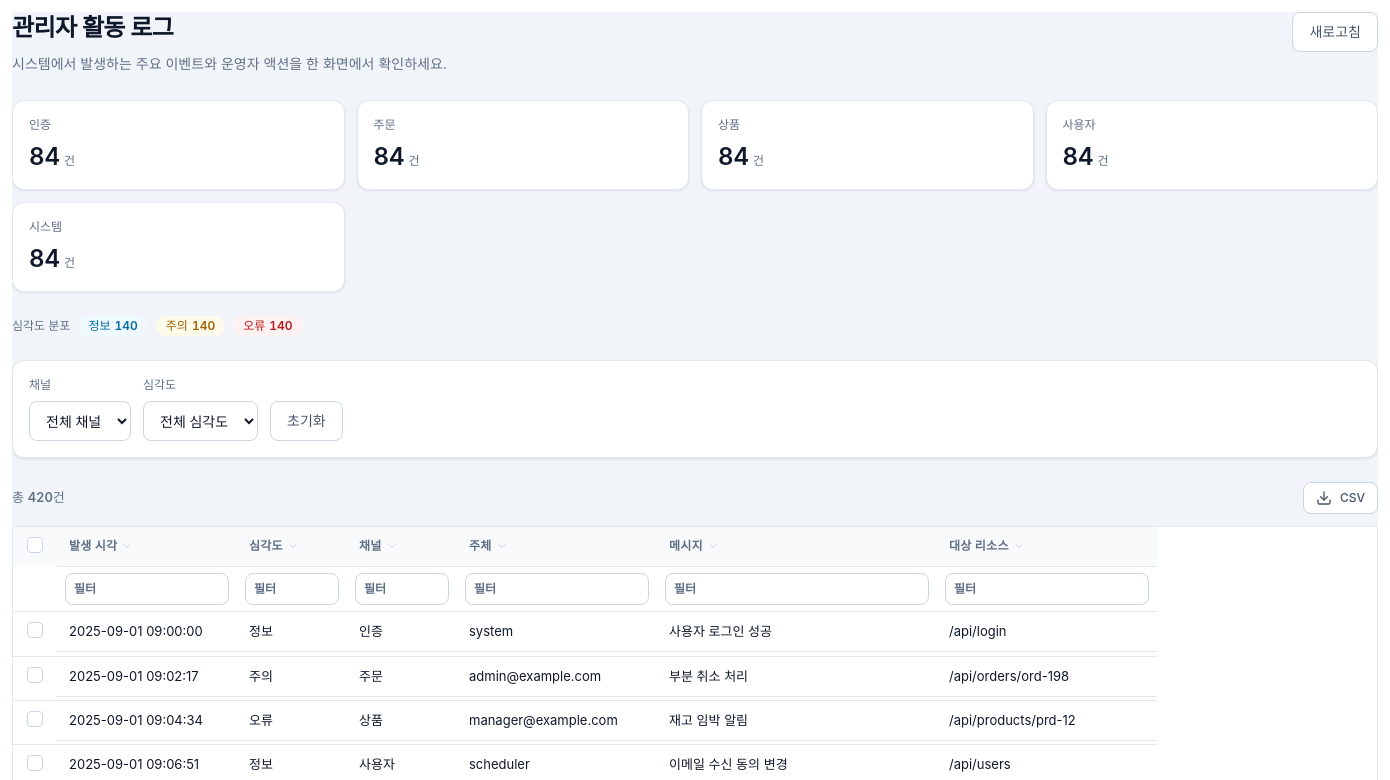
Test: admin logs › 활동 로그 페이지가 렌더되고 채널·심각도 필터링에 반응한다
Expected: the element with test id "관리자 활동 로그-row-count" shows "420", [28, 489, 53, 505]
Select "주문" in the dropdown labelled "채널". click: (80, 421)
box: [29, 401, 131, 441]
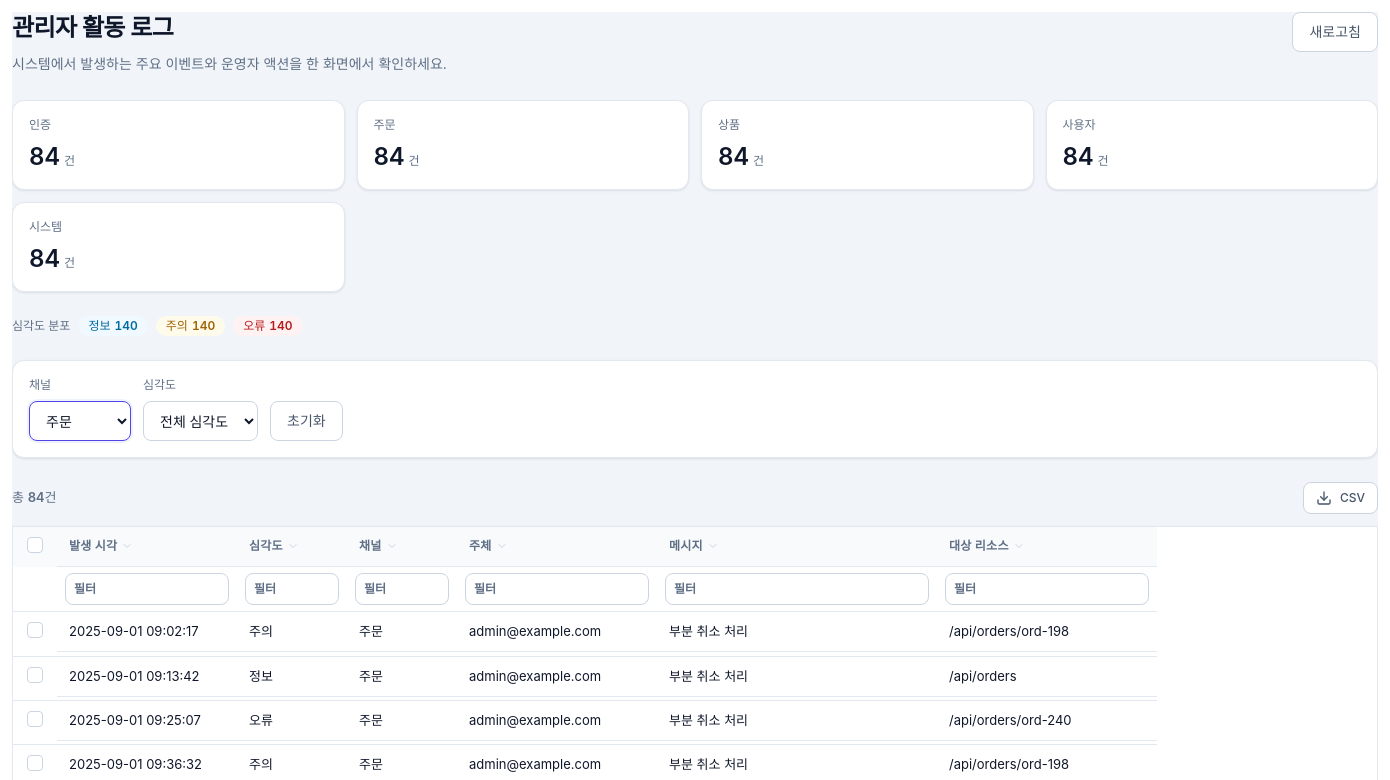
Result: the element with test id "관리자 활동 로그-row-count" shows "84" at [28, 489, 44, 505]
Select "오류" in the dropdown labelled "심각도". click: (200, 421)
box: [143, 401, 258, 441]
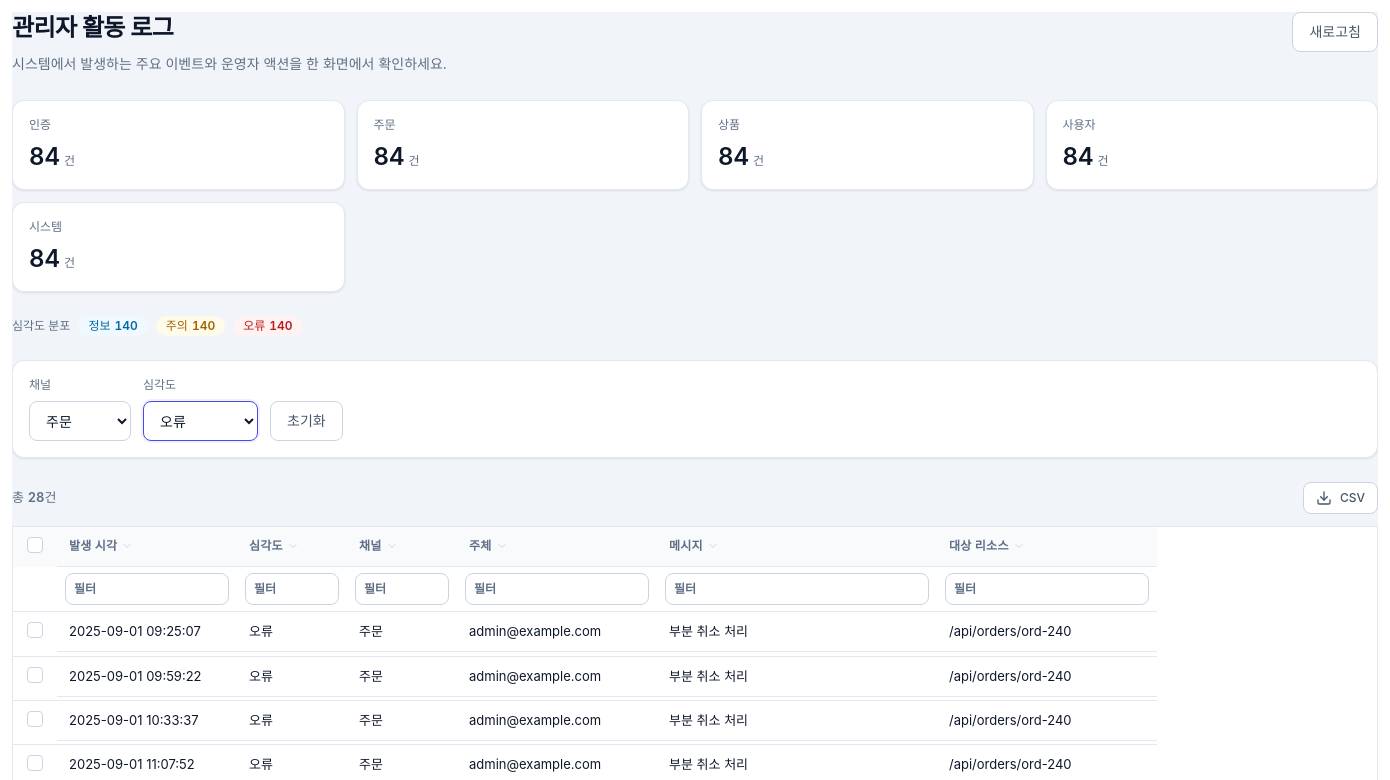
Result: the element with test id "관리자 활동 로그-row-count" shows "28" at [28, 489, 44, 505]
Click the button "초기화". click: click(306, 421)
box: [270, 401, 343, 441]
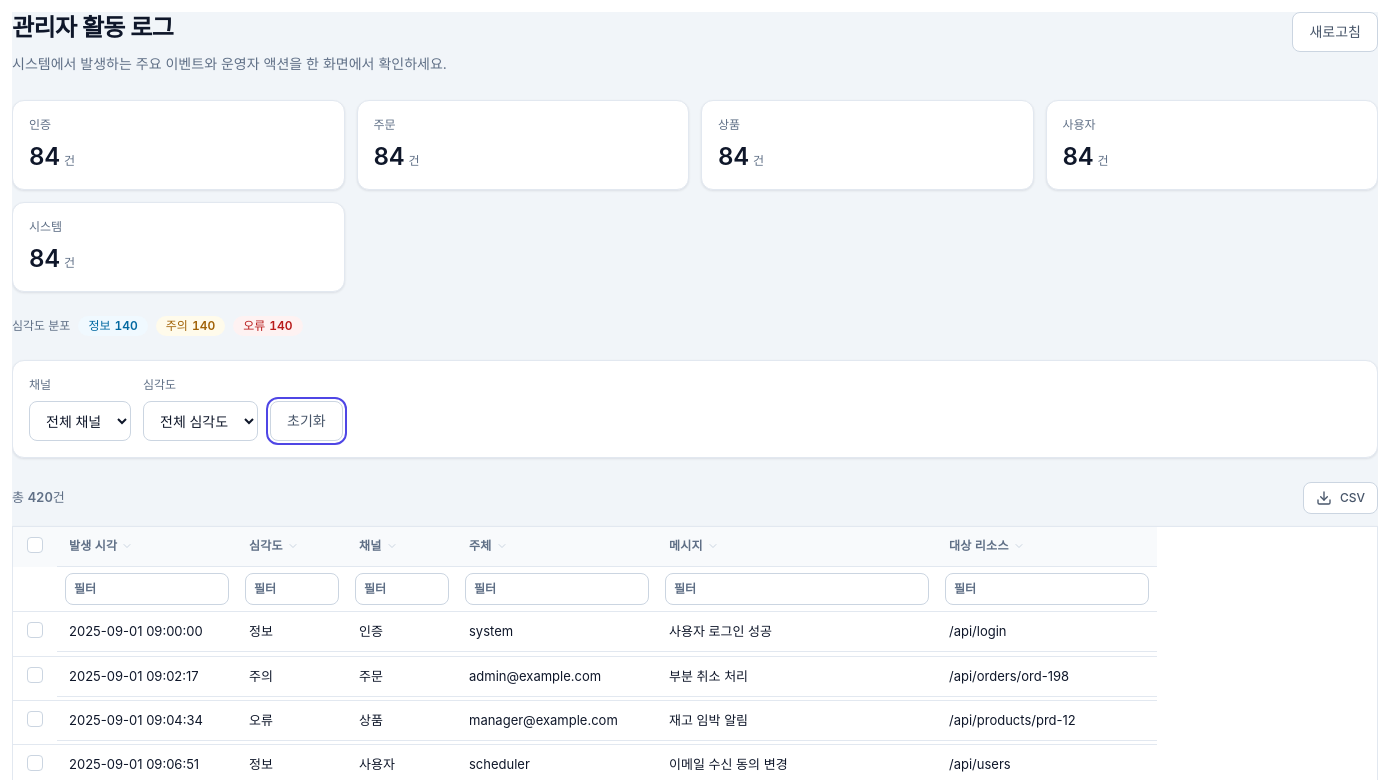
Result: the element with test id "관리자 활동 로그-row-count" shows "420" at [28, 489, 53, 505]
